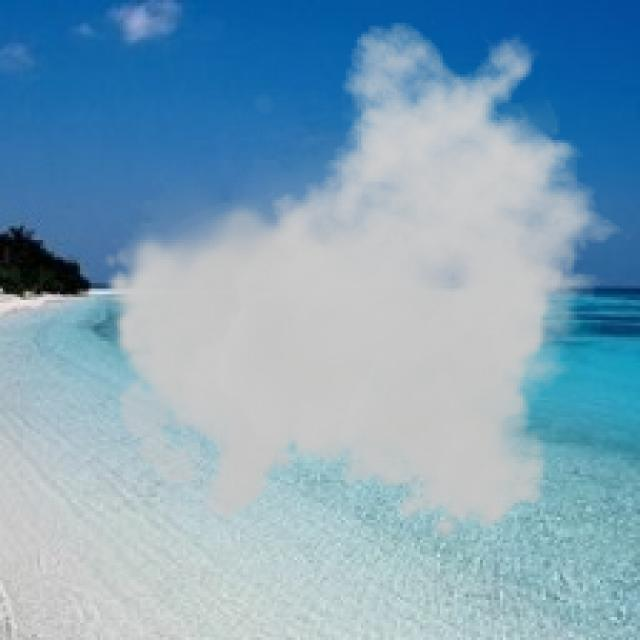Smoke: (102, 20, 638, 546)
